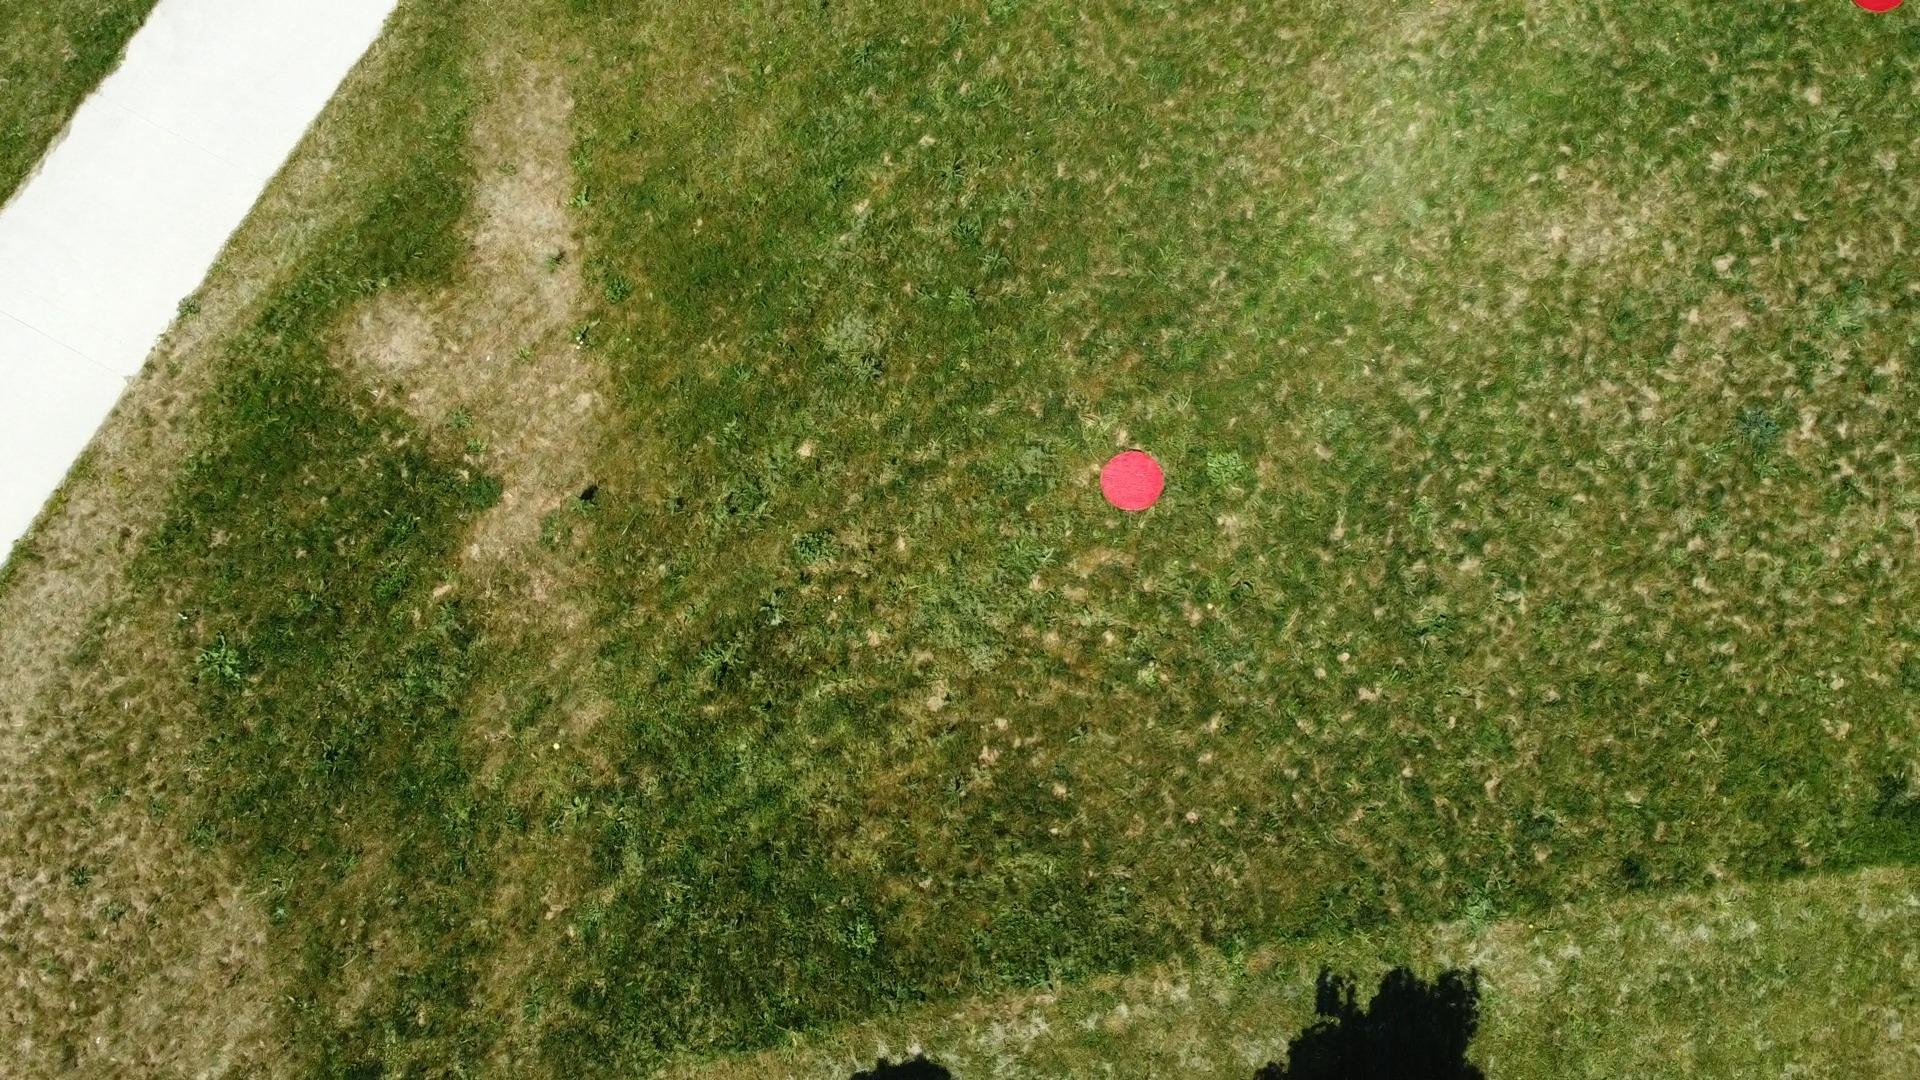Red: (1097, 448, 1167, 516)
